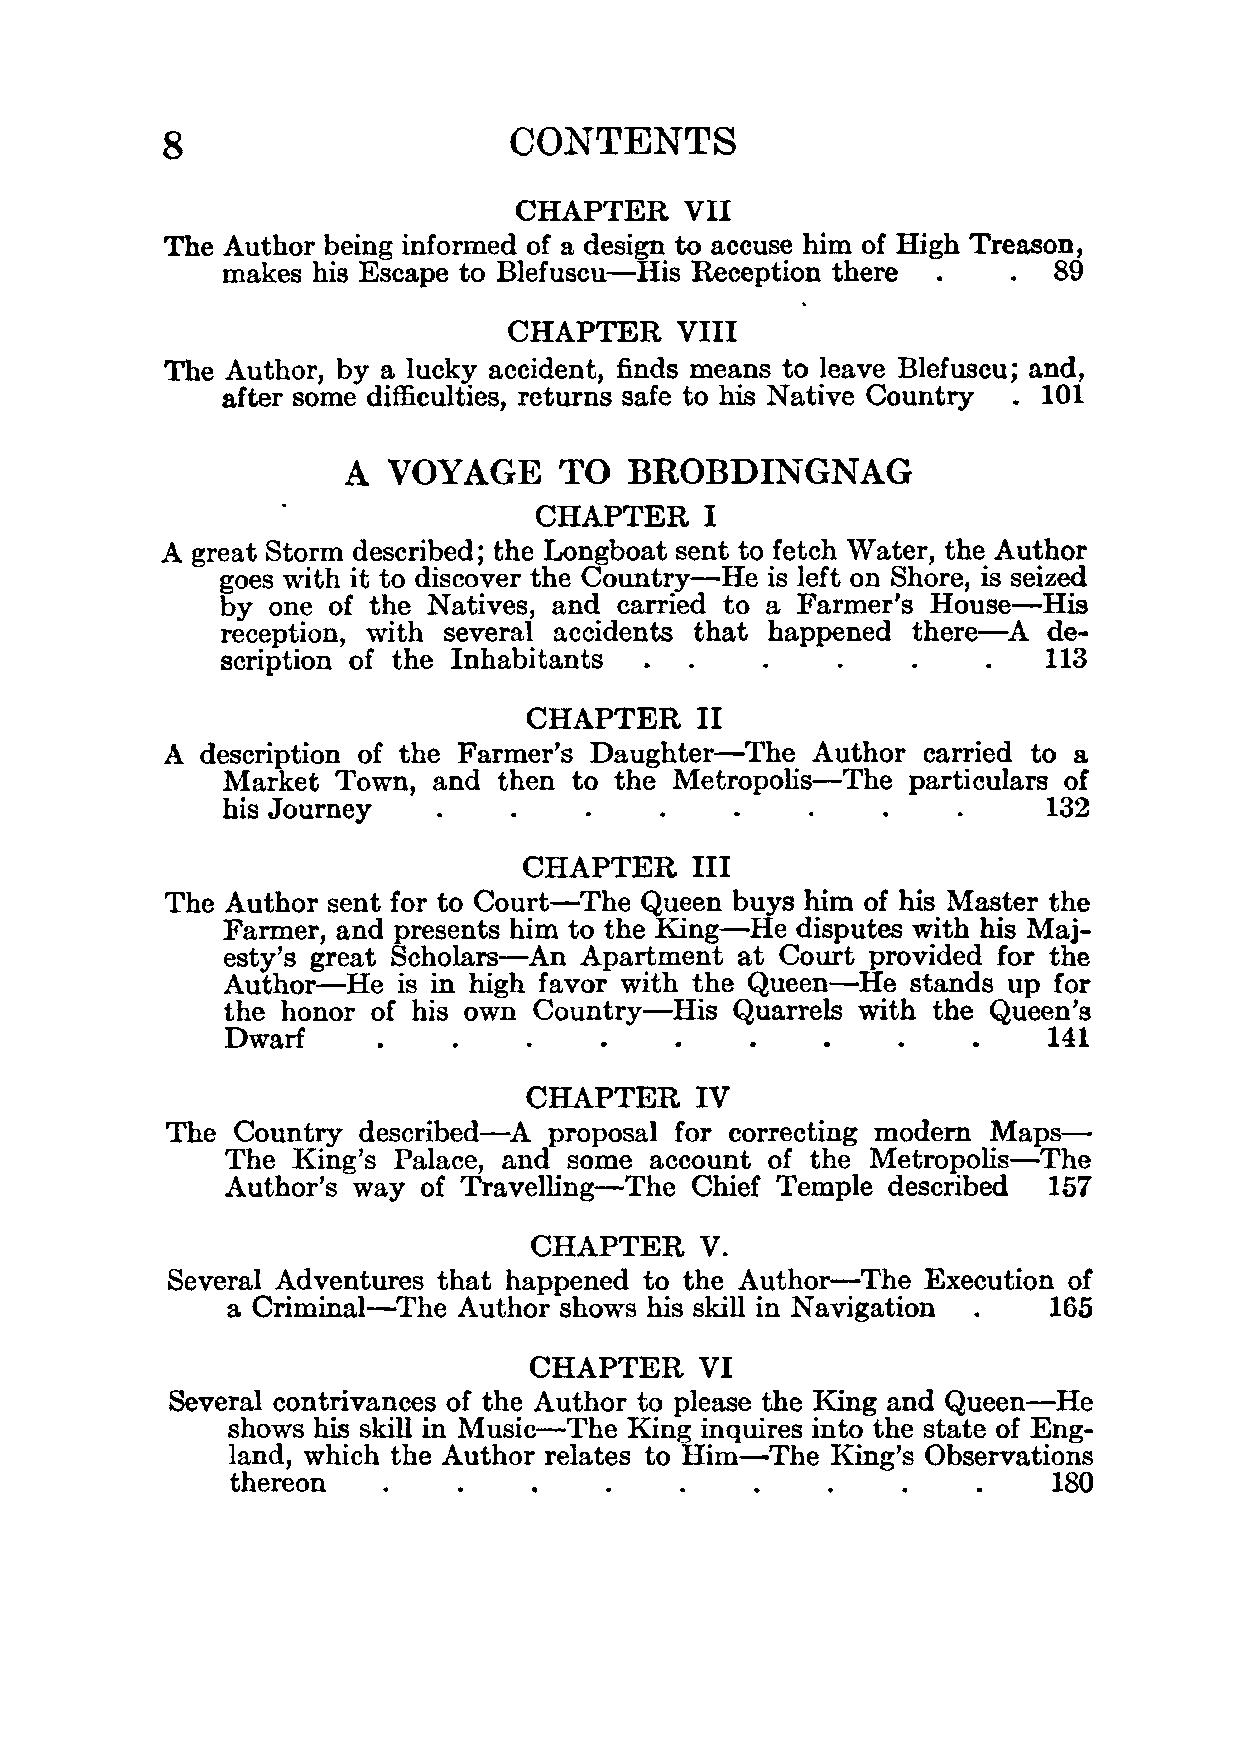TOC_chapter: (162, 887, 1095, 1057), (161, 535, 1095, 676), (158, 1384, 1096, 1500), (164, 1110, 1092, 1198), (162, 738, 1088, 823), (157, 348, 1082, 417), (156, 228, 1088, 289), (164, 1261, 1041, 1325), (329, 455, 919, 487), (519, 1342, 743, 1384), (521, 692, 729, 737), (498, 189, 735, 227), (498, 311, 745, 345), (521, 849, 733, 886), (526, 498, 722, 534), (526, 1078, 734, 1111), (523, 1228, 733, 1260)
TOC_pagenumber: (1047, 1168, 1092, 1200), (1049, 1292, 1095, 1321), (1049, 1468, 1095, 1496), (1045, 1023, 1096, 1047), (1045, 647, 1092, 672), (1045, 794, 1092, 820), (1045, 258, 1088, 285), (1037, 386, 1088, 404)
chapter: (484, 105, 747, 169)
